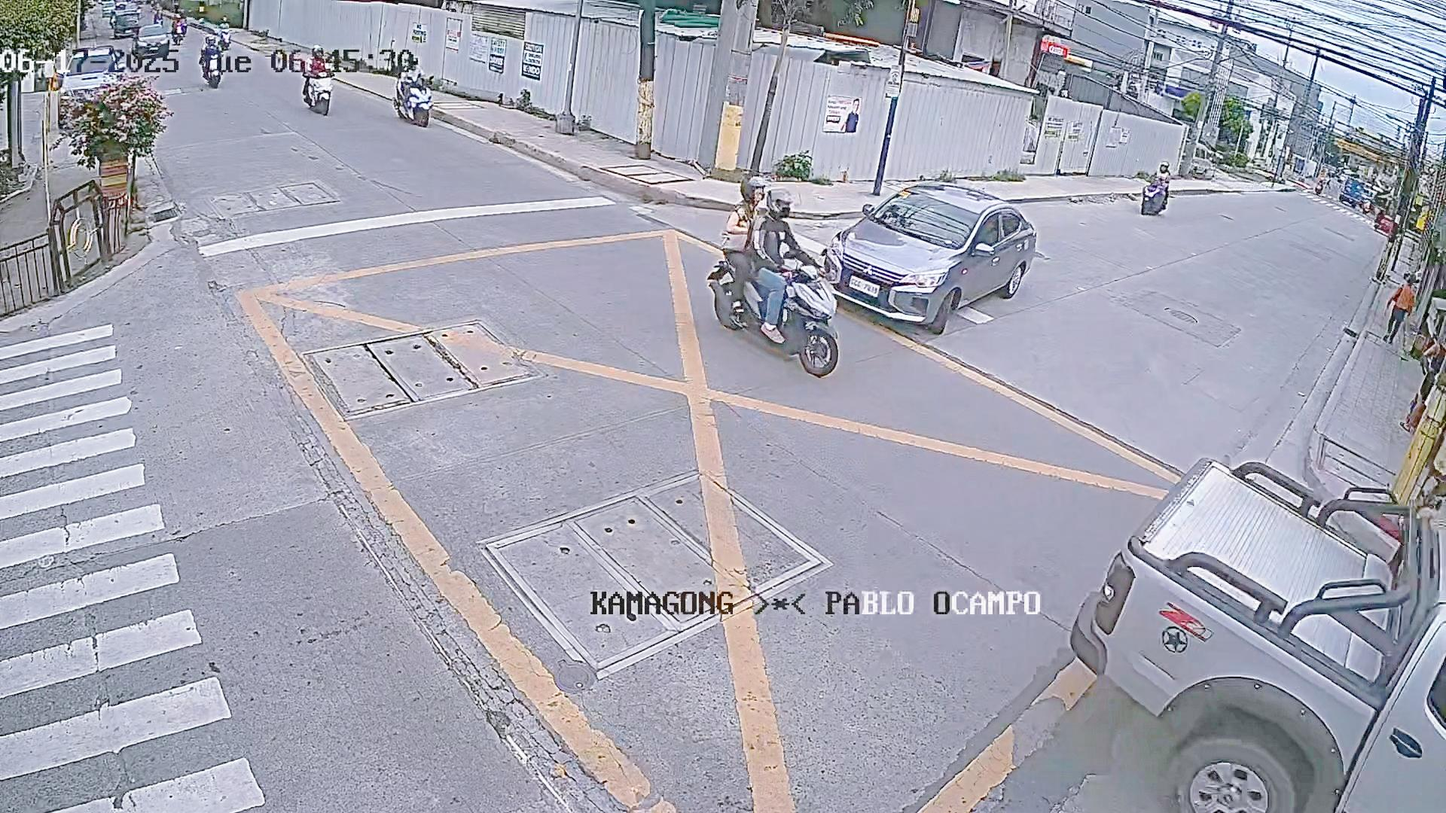Car: (1063, 357, 1446, 813), (822, 158, 1060, 329), (125, 24, 187, 59)
Motor: (691, 161, 878, 396), (1125, 158, 1205, 243), (276, 38, 355, 124), (372, 60, 452, 131), (189, 37, 261, 101)
Not Accident: (682, 149, 1030, 383)
